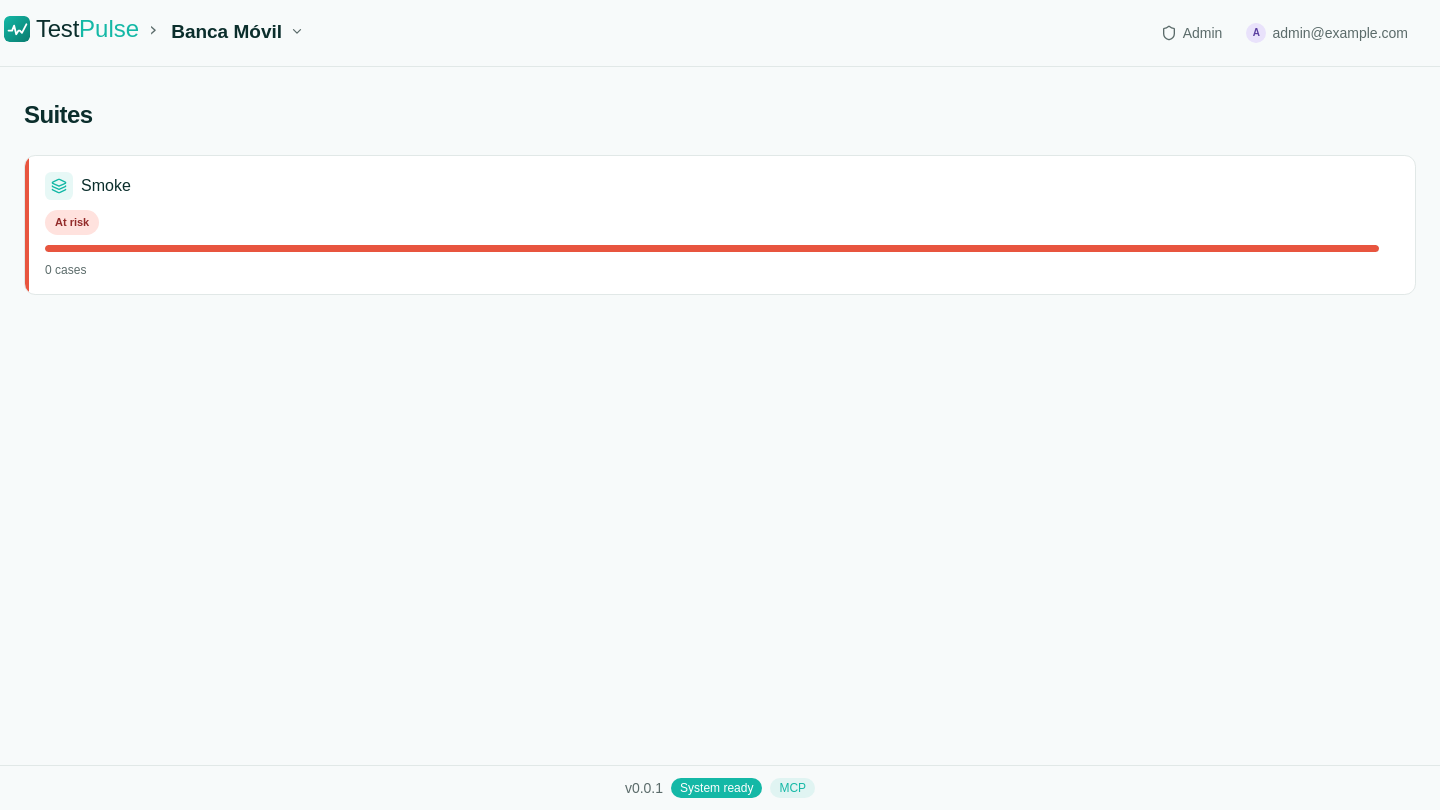
Test case: App shell › opens the switcher palette with every project and its stats
The width and height of the screenshot is (1440, 810).
Expected: the link "Banca Móvil" is shown, x1=167 y1=18 x2=286 y2=45
Click the button named "switch project" at (297, 31), box x1=286 y1=20 x2=308 y2=42
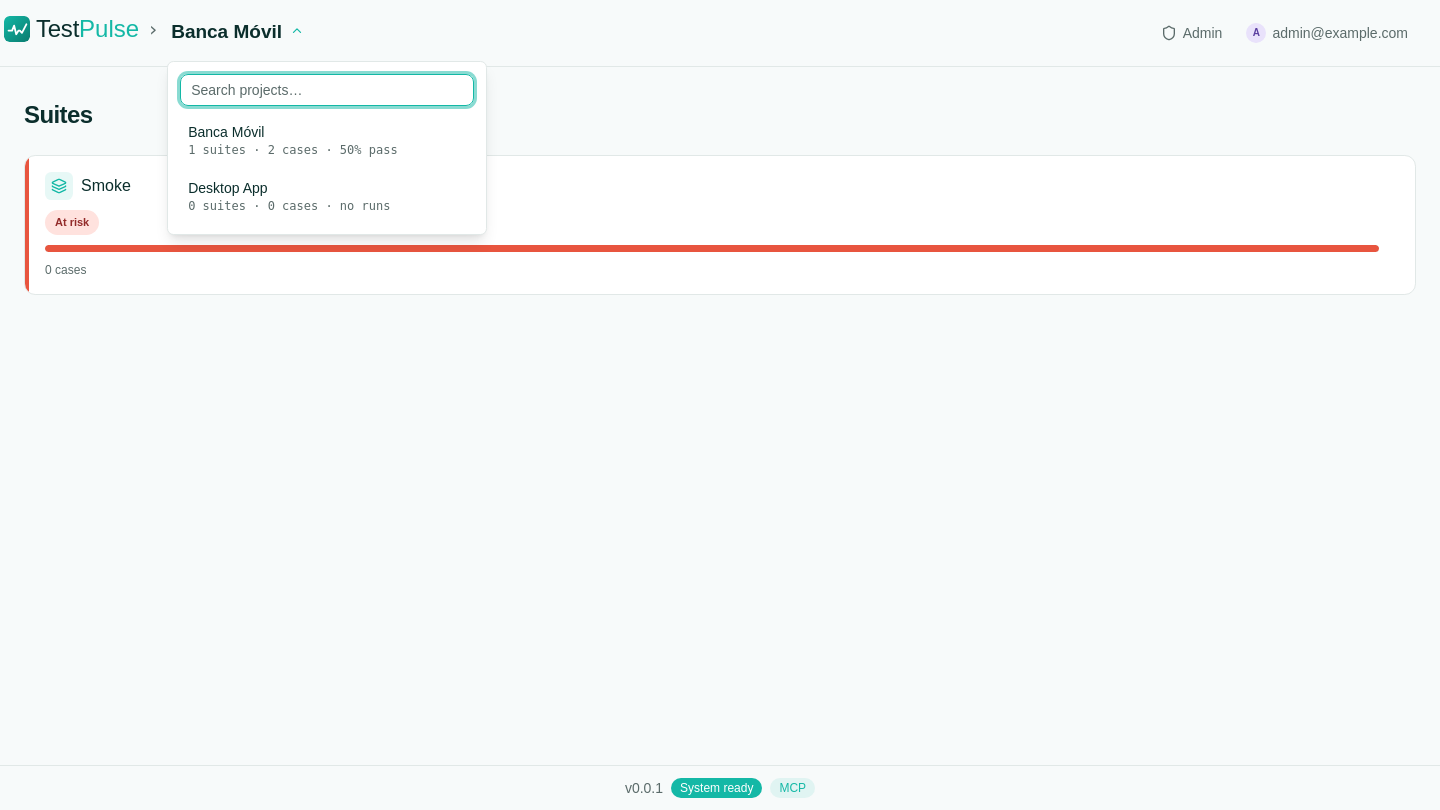
Expected: the text "Banca Móvil" is shown, x1=188 y1=124 x2=264 y2=140
Expected: the text "1 suites · 2 cases · 50% pass" is shown, x1=188 y1=143 x2=398 y2=157
Expected: the text "Desktop App" is shown, x1=188 y1=180 x2=268 y2=196
